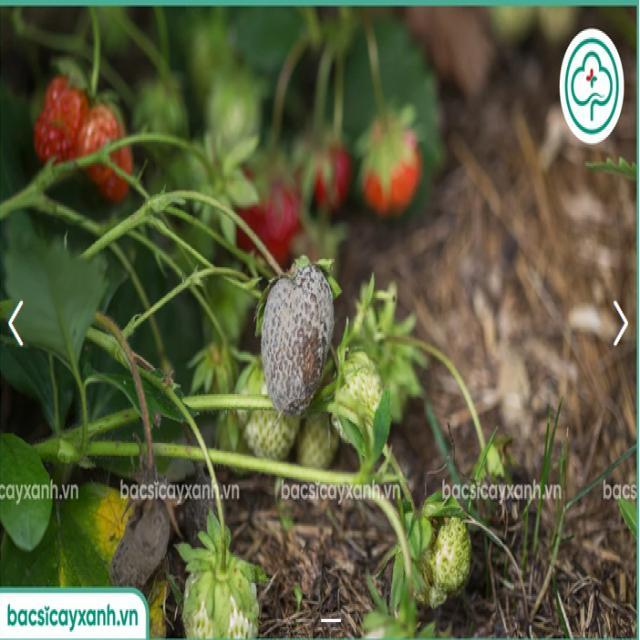Fruta sana: (36, 70, 126, 188), (232, 142, 306, 262), (362, 96, 428, 221), (174, 561, 260, 640), (303, 112, 347, 221)
Moho gris: (260, 245, 330, 420)
